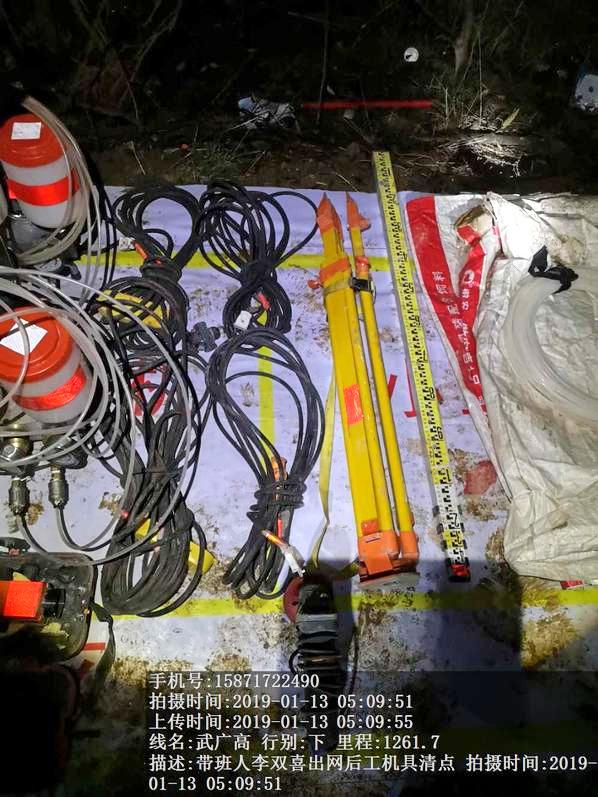BZD: (411, 178, 598, 576)
DX: (208, 337, 318, 594), (197, 173, 314, 335)
SG: (515, 265, 598, 425)
